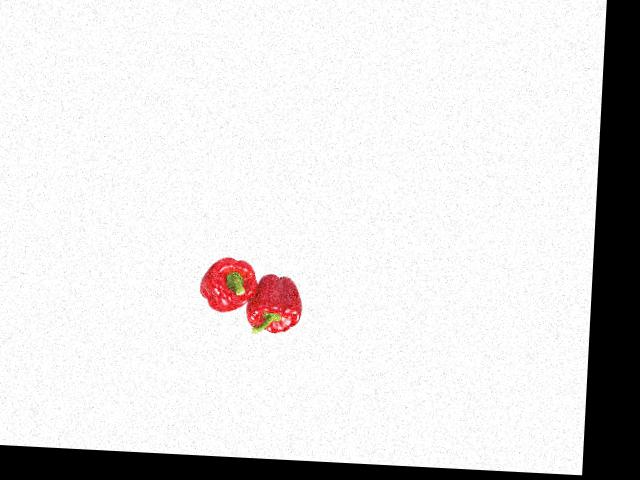bell_pepper: (243, 268, 305, 338)
